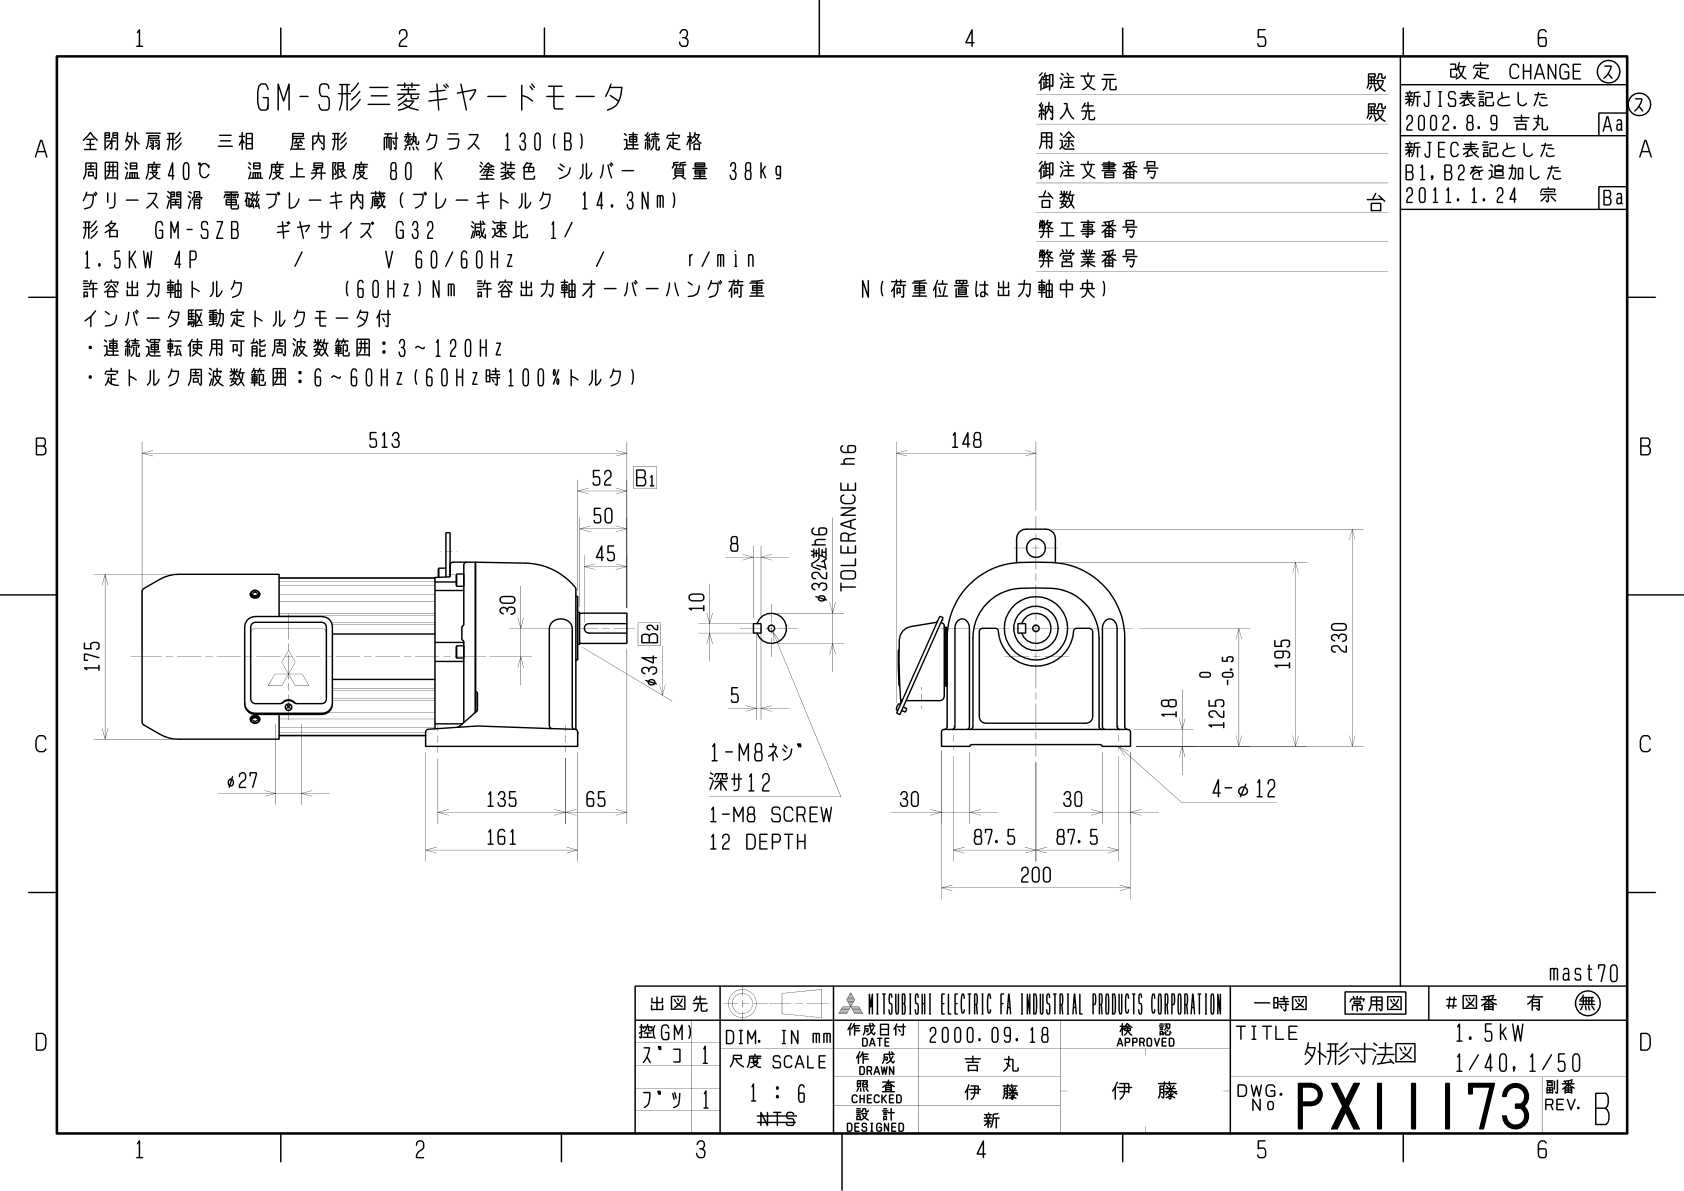GM_S_インバタ屋外＿三相_脚: (71, 409, 1386, 955)
